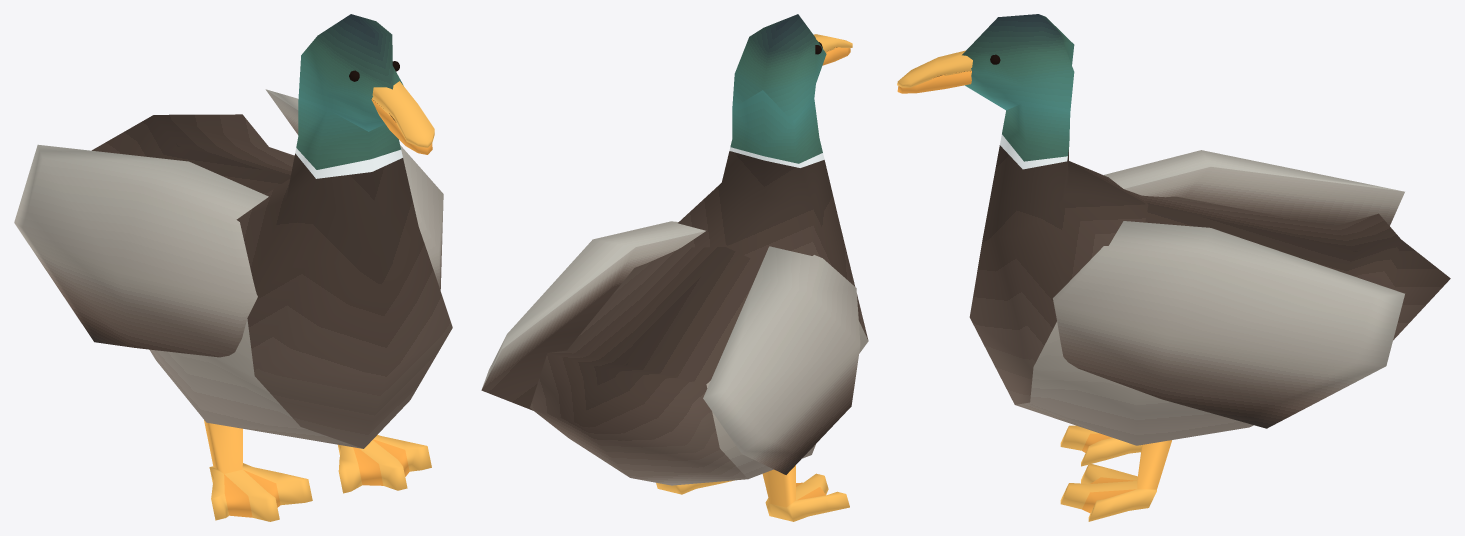
The model's file is 5mallard.glb.
The picture shows the model from 3 angles, left to right: view 1: azimuth 30°, elevation 25°; view 2: azimuth 150°, elevation 25°; view 3: azimuth 270°, elevation 25°; orthographic projection. The views are drawn at different scales.
Visible parts, largest first — view 1: Mallard_0; view 2: Mallard_0; view 3: Mallard_0.
Part boxes in pixels (x1,y1,x2,y2): Mallard_0: (14,14,452,521); Mallard_0: (481,14,868,521); Mallard_0: (897,14,1450,521).
Bounding box in the file's own units: 0.4067 × 0.6006 × 0.6525.
1 material, 1 textured.
